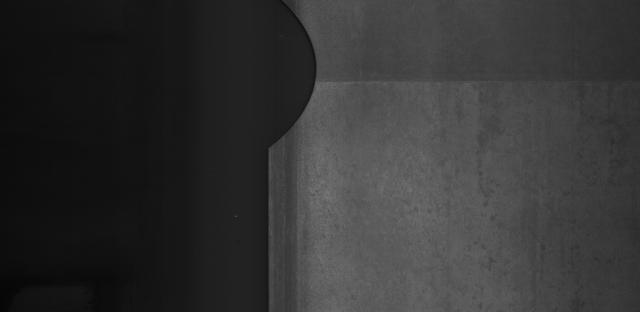crescent_gap: (230, 0, 328, 158)
welding_line: (311, 69, 640, 92)
